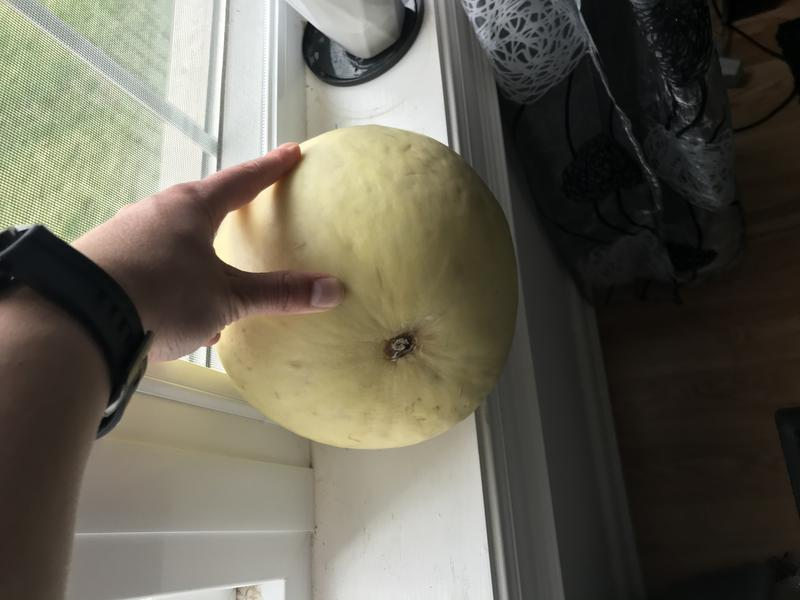honeydew: (189, 115, 520, 454)
